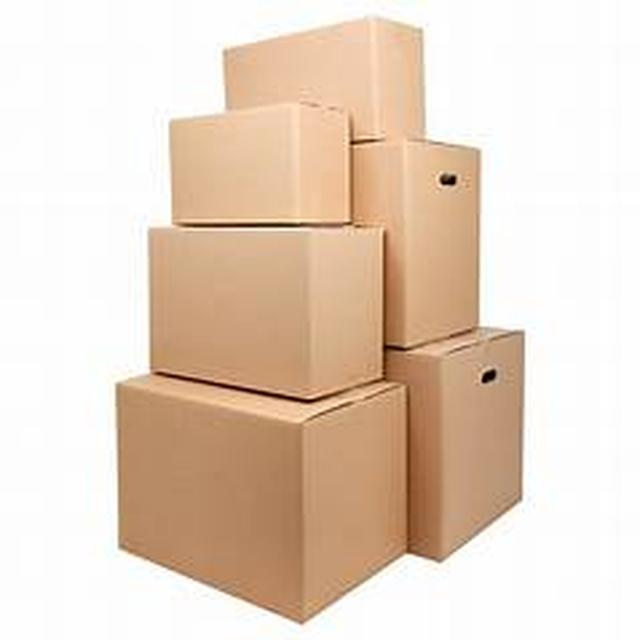box: (106, 7, 580, 614)
